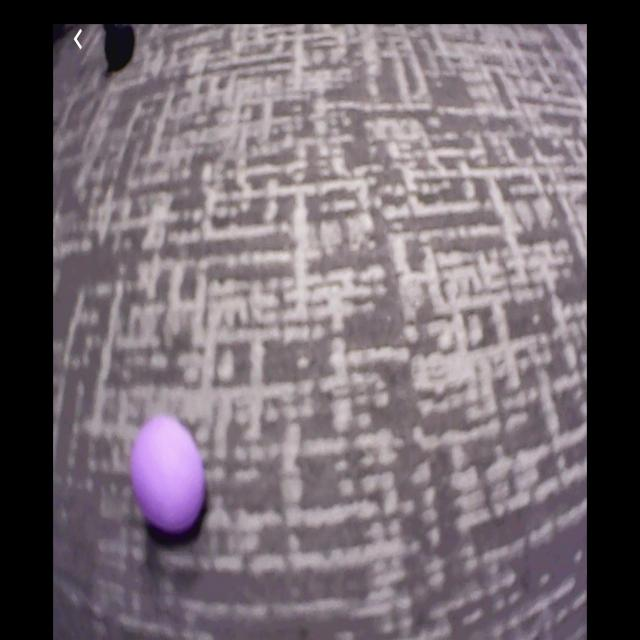ball: (131, 415, 205, 535)
